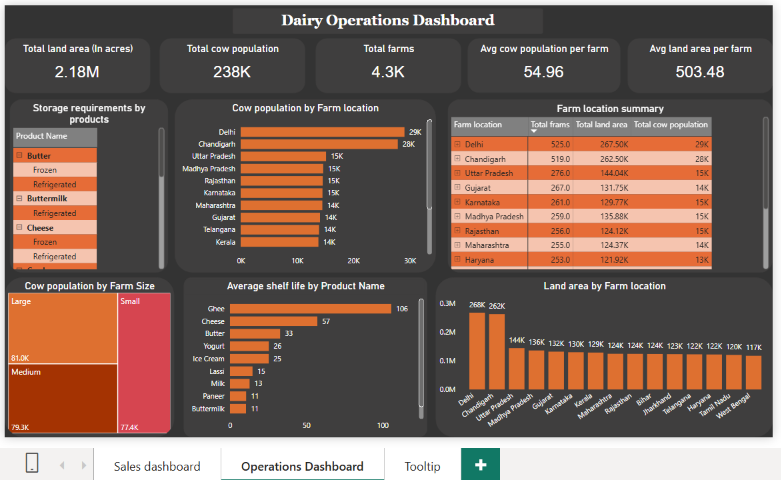

Layout of this report page (visuals, bound fields, positions):
{"tool":"powerbi","page":{"name":"Operations Dashboard","canvas":[1280,720],"ordinal":1},"visuals":[{"type":"barChart","title":"Cow population by Farm location","fields":{"Category":["sales.Farm location"],"Y":["Product.Total cow population"]},"box":[283.8,156.2,435,288.8],"z":0},{"type":"columnChart","title":"Land area by Farm location","fields":{"Category":["sales.Farm location"],"Y":["Product.Total land area"]},"box":[717.5,453.8,562.5,266.2],"z":1000},{"type":"cardVisual","title":"Total cow population","fields":{"Data":["Product.Total cow population"]},"box":[258.8,55,242.5,91.2],"z":2000},{"type":"cardVisual","title":"Total land area (In acres)","fields":{"Data":["Product.Total land area"]},"box":[0,55,242.5,91.2],"z":3000},{"type":"treemap","title":"Cow population by Farm Size","fields":{"Group":["sales.Farm Size"],"Values":["Product.Total cow population"]},"box":[0,453.8,282.5,266.2],"z":4000},{"type":"pivotTable","title":"Farm location summary","fields":{"Rows":["sales.Farm location","sales.Farm Size"],"Values":["Product.Total frams","Product.Total land area","Product.Total cow population"]},"box":[738.8,156.2,541.2,288.8],"z":5000},{"type":"barChart","title":"Average shelf life by Product Name","fields":{"Category":["Product.Product Name"],"Y":["Product.average shelflife"]},"box":[297.5,453.8,406.2,266.2],"z":6000},{"type":"pivotTable","title":"Storage requirements by products","fields":{"Rows":["Product.Product Name","sales.Storage Condition"]},"box":[8.8,156.2,263.8,288.8],"z":7000},{"type":"cardVisual","title":"Avg cow population per farm","fields":{"Data":["Product.average cow population"]},"box":[775.7,55.5,248.5,90.5],"z":8000},{"type":"cardVisual","title":"Avg land area per farm","fields":{"Data":["Product.average land area"]},"box":[1037.5,55,242.5,91.2],"z":9000},{"type":"cardVisual","title":"Total farms","fields":{"Data":["Product.Total frams"]},"box":[518.8,55,242.5,91.2],"z":10000},{"type":"textbox","box":[380,5,517.5,42.5],"z":11000}]}

Visuals, with their boxes on the page's 1280x720 design canvas (x1, y1, x2, y2). These are canvas units, not pixel positions in the 781x481 screenshot, which may show the page scaled, cropped or inside an application window:
"Cow population by Farm location" barChart: [284, 156, 719, 445]
"Land area by Farm location" columnChart: [718, 454, 1280, 720]
"Total cow population" cardVisual: [259, 55, 501, 146]
"Total land area (In acres)" cardVisual: [0, 55, 242, 146]
"Cow population by Farm Size" treemap: [0, 454, 282, 720]
"Farm location summary" pivotTable: [739, 156, 1280, 445]
"Average shelf life by Product Name" barChart: [298, 454, 704, 720]
"Storage requirements by products" pivotTable: [9, 156, 273, 445]
"Avg cow population per farm" cardVisual: [776, 56, 1024, 146]
"Avg land area per farm" cardVisual: [1038, 55, 1280, 146]
"Total farms" cardVisual: [519, 55, 761, 146]
textbox: [380, 5, 898, 48]
